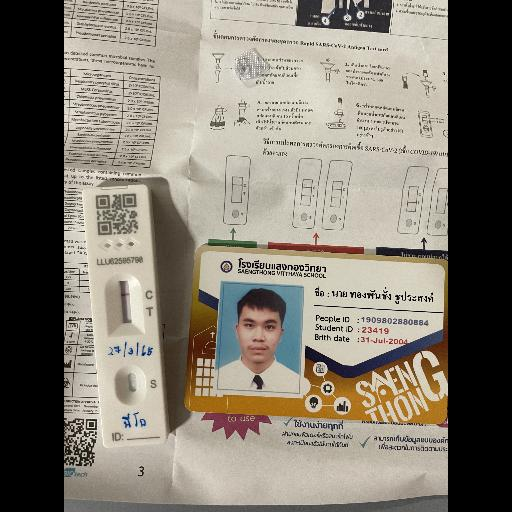Neg: (80, 185, 169, 449)
